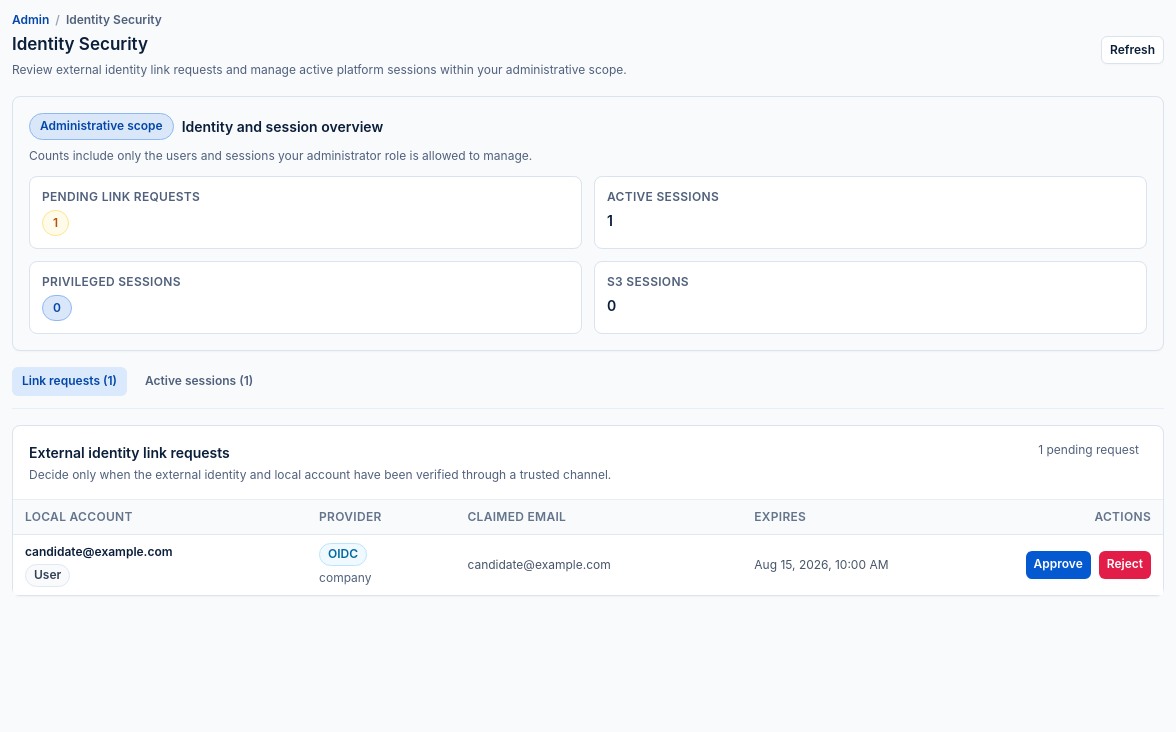
Scenario: IdentitySecurityPage › presents identity requests and sessions as structured administration views
expect the text "External identity link requests" is shown: met, box [29,444,230,460]
expect the text "candidate@example.com" is shown 2 times: met, box [25,544,173,559]; [467,557,611,572]
Click the tab "Active sessions (1)". click: point(199, 381)
box: [135,367,263,396]
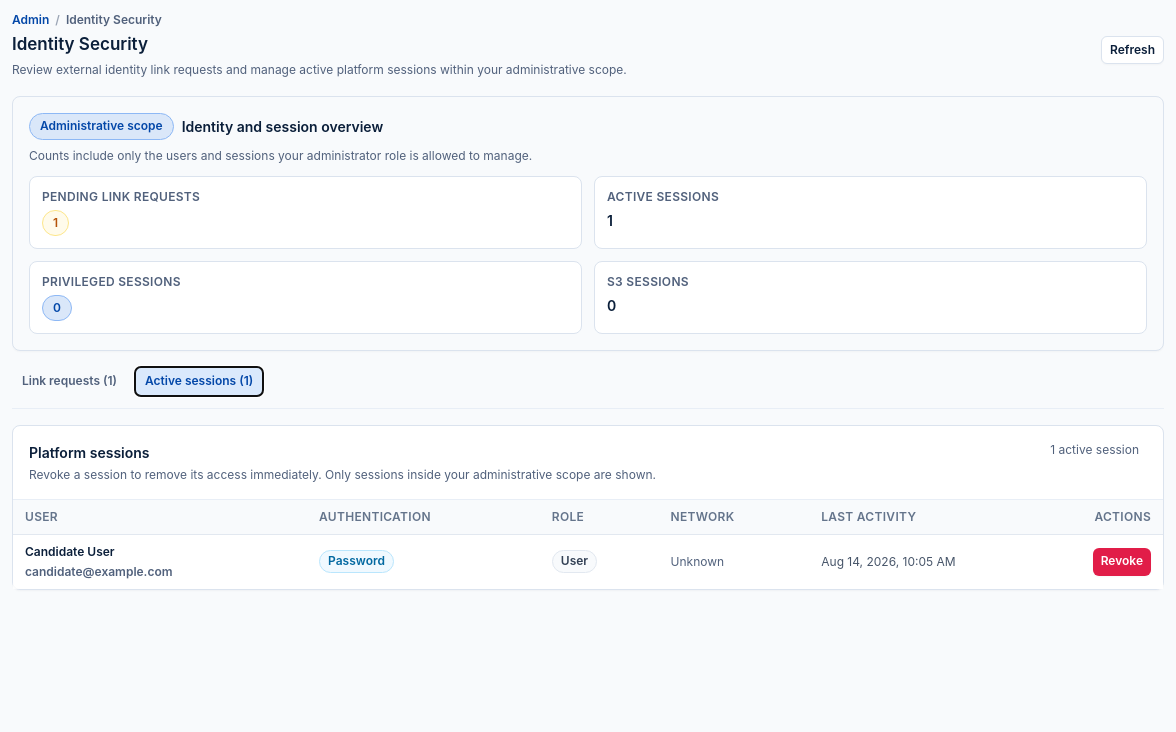
expect the text "Platform sessions" is shown: met, box [29,444,150,460]
expect the text "Candidate User" is shown: met, box [25,543,115,560]
expect the text "Password" is shown: met, box [319,550,394,573]
